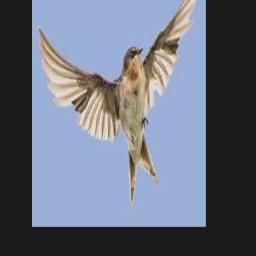Swallow: (37, 0, 198, 212)
